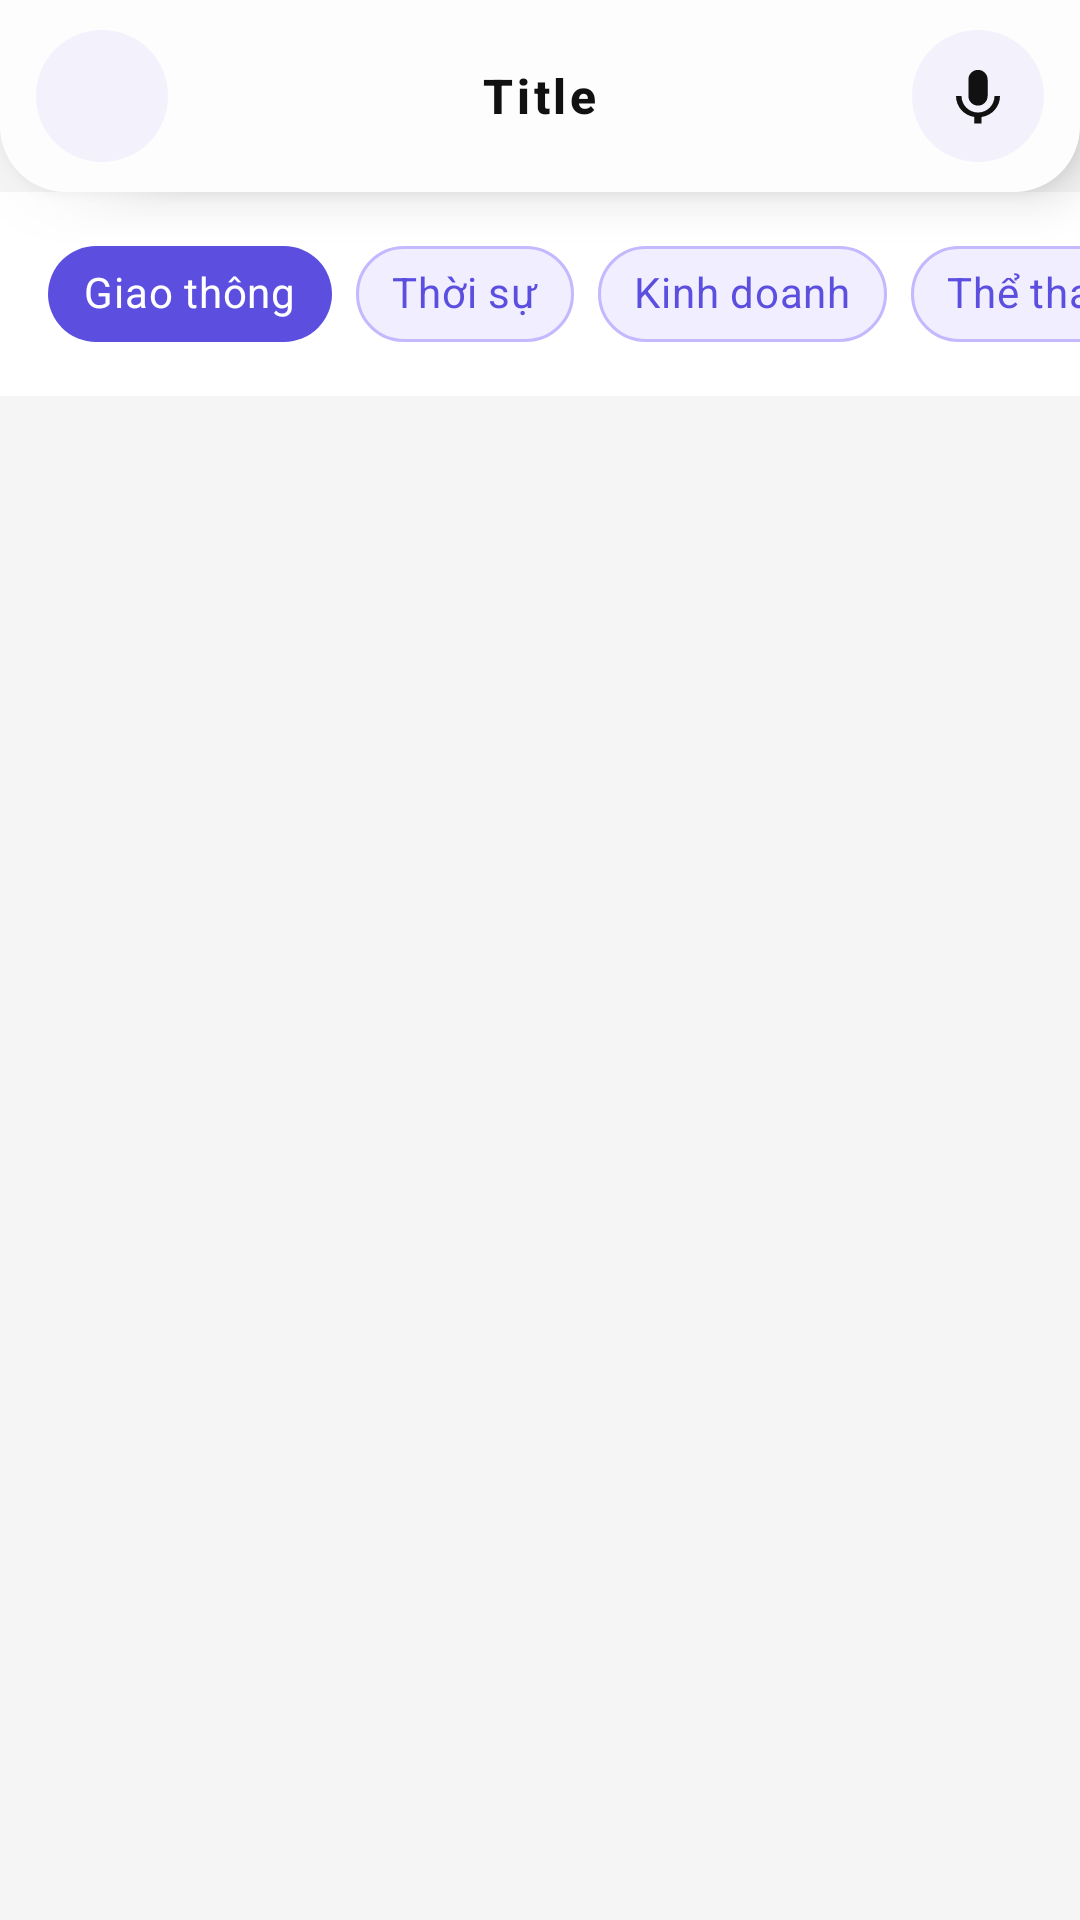

Icon bounding boxes for this 1080 × 1920 phone screenshot, format Rect(x1, y1, x2, y2):
Trợ lý giọng nói: Rect(912, 30, 1044, 162)
